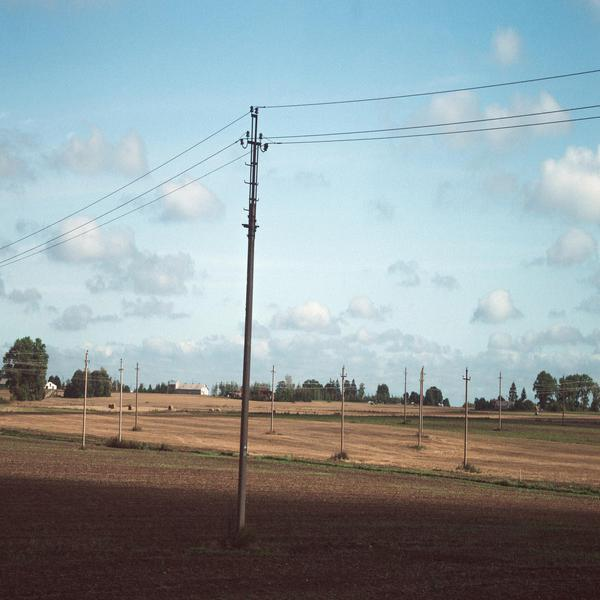utility_pole: (228, 98, 280, 239)
